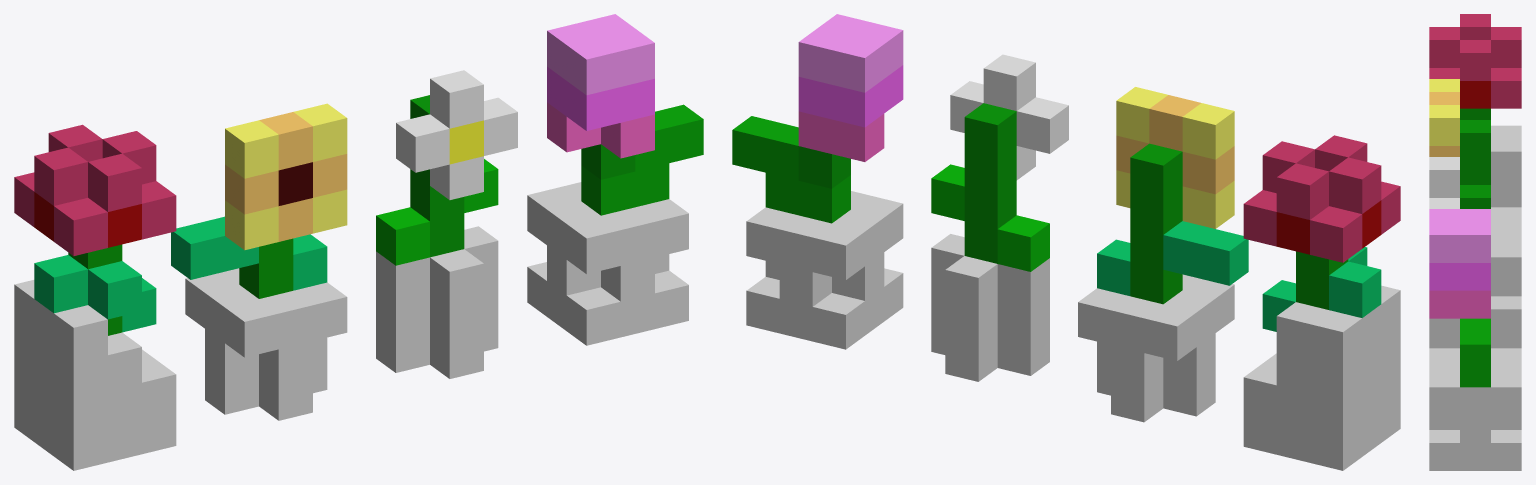
Rendered from voxel_flowers.glb.
3 views of the same model, side by side, from view 1: azimuth 30°, elevation 25°; view 2: azimuth 150°, elevation 25°; view 3: azimuth 270°, elevation 25° (orthographic). The views are drawn at different scales.
Parts seen in each view (by area): view 1: Object_2; view 2: Object_2; view 3: Object_2.
Part boxes in pixels (<box>): Object_2: <box>14,14,703,470</box>; Object_2: <box>732,14,1400,470</box>; Object_2: <box>1429,14,1521,470</box>.
Size of the model in its own units: 1.17 by 0.4943 by 0.1854.
1 material, 1 textured.
